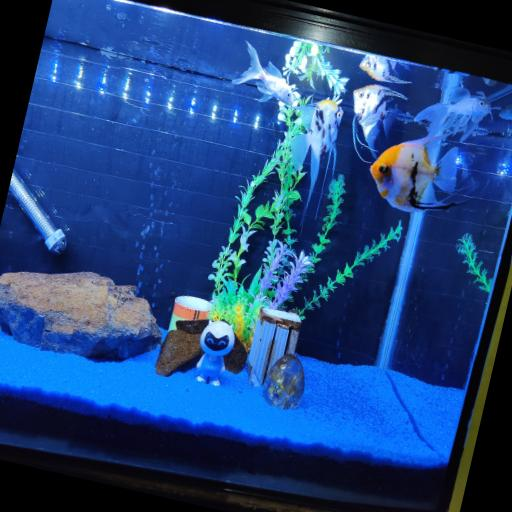Fish: (369, 136, 457, 211), (289, 100, 342, 223), (414, 88, 491, 141), (231, 41, 293, 105), (352, 85, 405, 158), (358, 55, 409, 83), (498, 104, 511, 120), (482, 77, 495, 86)
